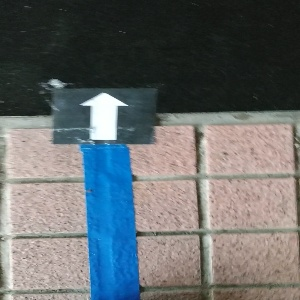straight: (51, 87, 154, 143)
